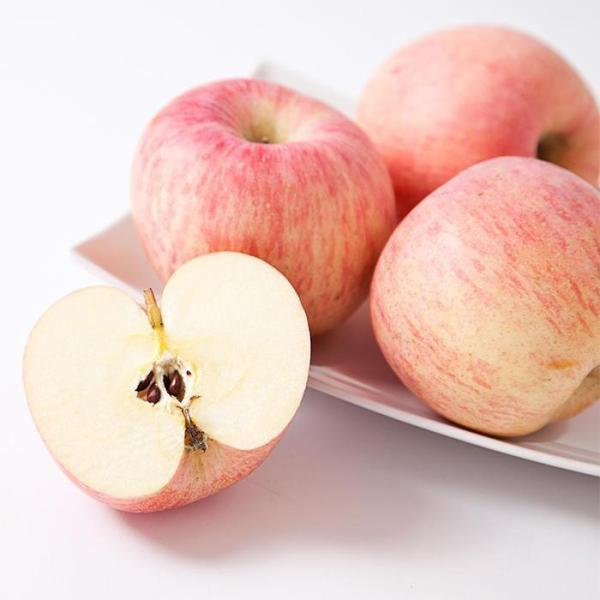apple: (123, 31, 600, 444), (126, 70, 458, 339), (21, 257, 314, 513), (364, 167, 600, 447), (362, 23, 599, 207)
